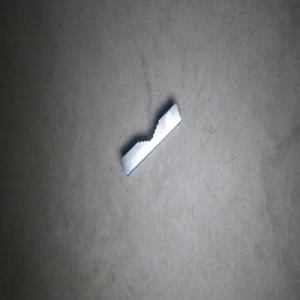ClampPart: (120, 101, 182, 177)
